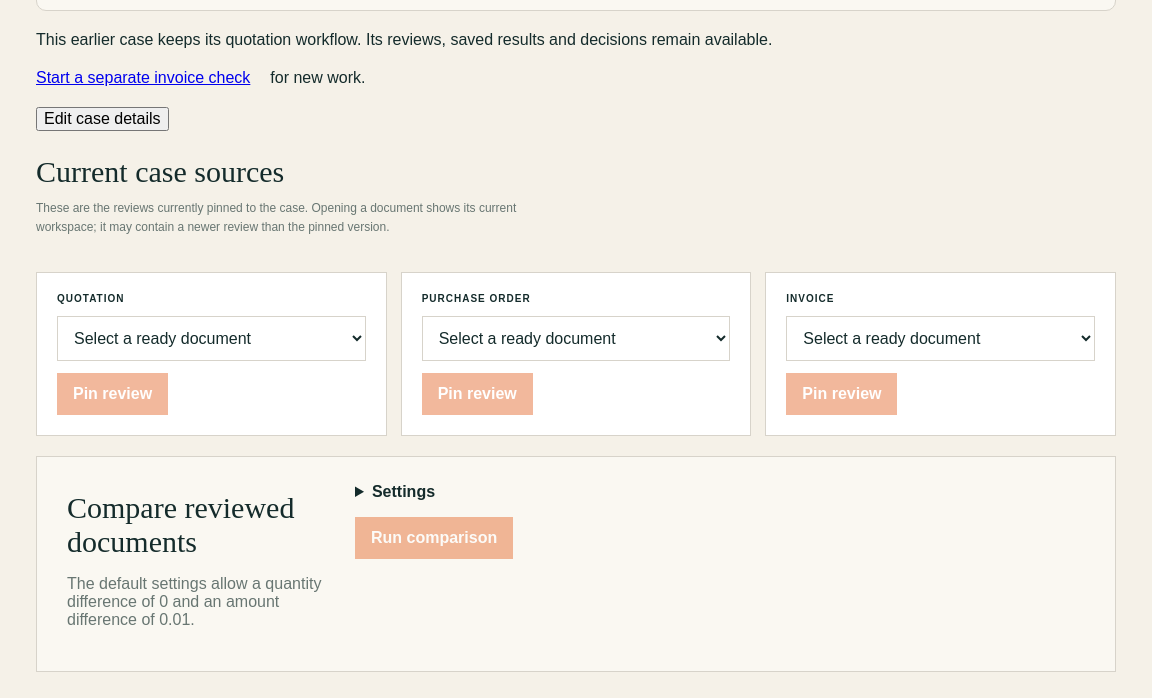
reconciliation workspace › opens an earlier case and pins only a completed review with the current ETag
This screenshot has width=1152, height=698.
(page scrolled)
Step 1. Select "quotation.pdf" in the dropdown named "Quotation document" → (211, 338), box [57,316,366,360]
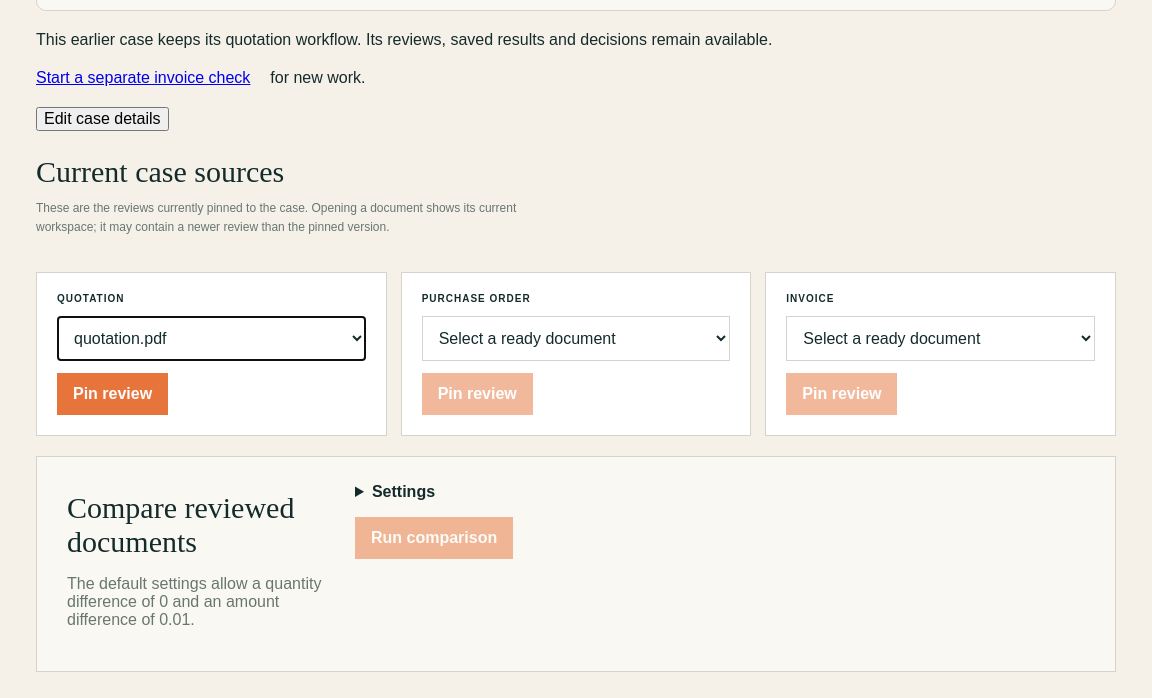
Step 2. Click the 1st button "Pin review" → (113, 394), box [57,372,168,414]
(page scrolled)
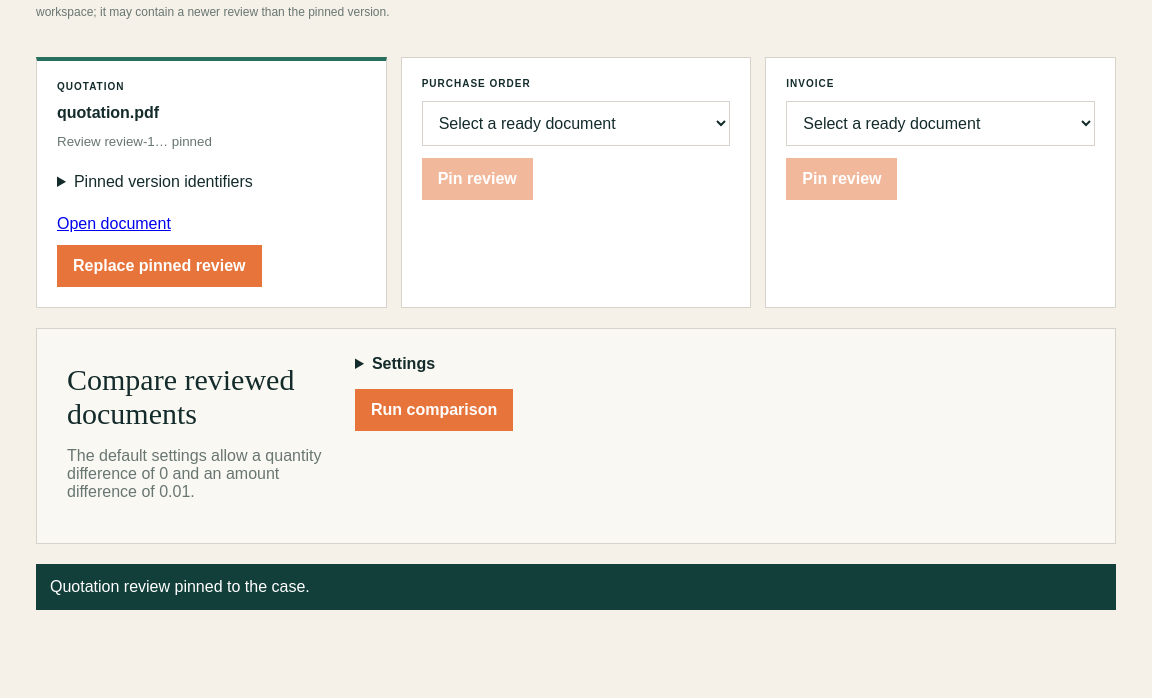
expect the text "Quotation review pinned to the case." is shown: met, box [36,564,1116,610]
